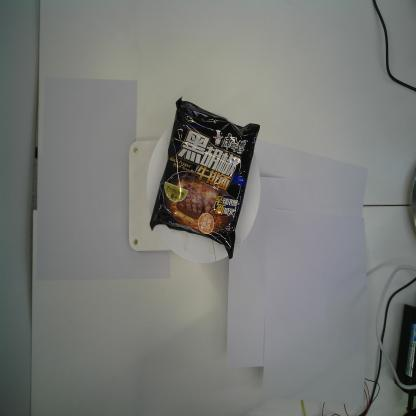Instant Noodles: (148, 97, 261, 260)
